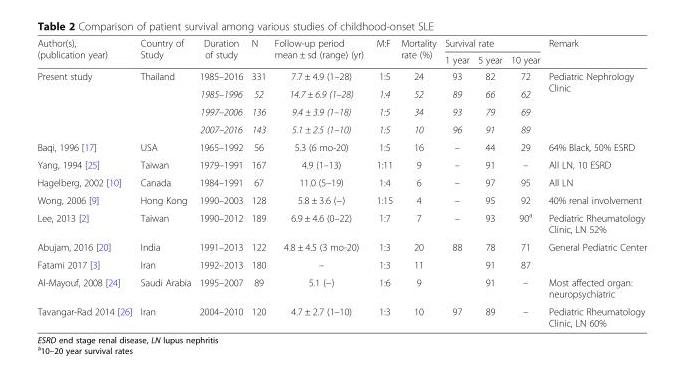table: (36, 37, 646, 328)
table column: (543, 37, 646, 328), (269, 37, 369, 328), (36, 37, 135, 328), (135, 37, 194, 328), (194, 37, 246, 328), (396, 37, 439, 328), (505, 37, 543, 328), (439, 37, 472, 328), (472, 37, 505, 328), (369, 37, 396, 328), (246, 37, 269, 328)
table column header: (36, 37, 646, 67)
table row: (36, 207, 646, 237), (36, 273, 646, 302), (36, 302, 646, 328), (36, 84, 646, 102), (36, 102, 646, 120), (36, 137, 646, 155), (36, 155, 646, 173), (36, 237, 646, 255), (36, 255, 646, 273), (36, 67, 646, 84), (36, 120, 646, 137), (36, 173, 646, 190), (36, 190, 646, 207), (36, 51, 646, 67), (36, 37, 646, 51)
table spanning cell: (543, 67, 646, 137), (36, 67, 135, 137), (135, 67, 194, 137), (543, 37, 646, 67), (269, 37, 369, 67), (36, 37, 135, 67), (135, 37, 194, 67), (194, 37, 246, 67), (439, 37, 543, 51), (396, 37, 439, 67), (369, 37, 396, 67), (246, 37, 269, 67)
